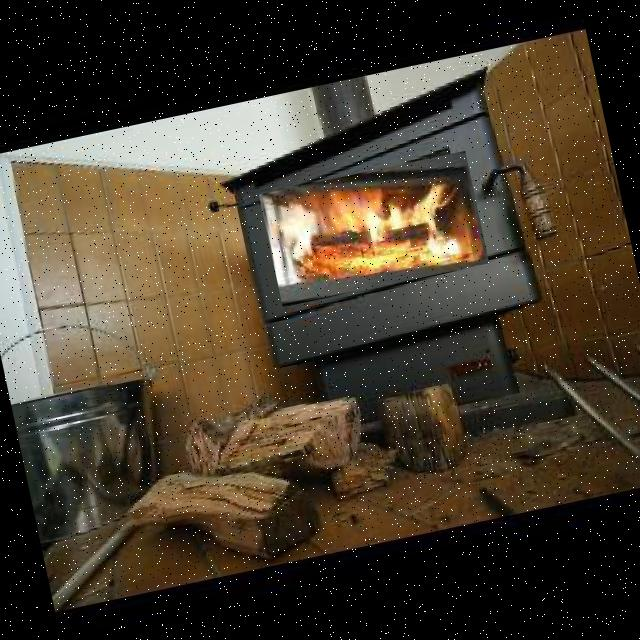fire: (258, 150, 488, 306)
